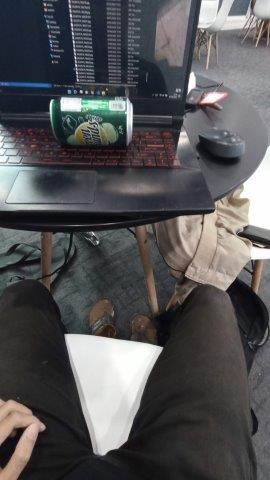kaleng: (50, 96, 133, 146)
